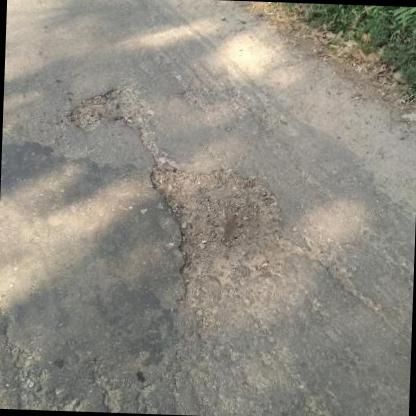pothole: (144, 158, 292, 292), (66, 79, 150, 132)
